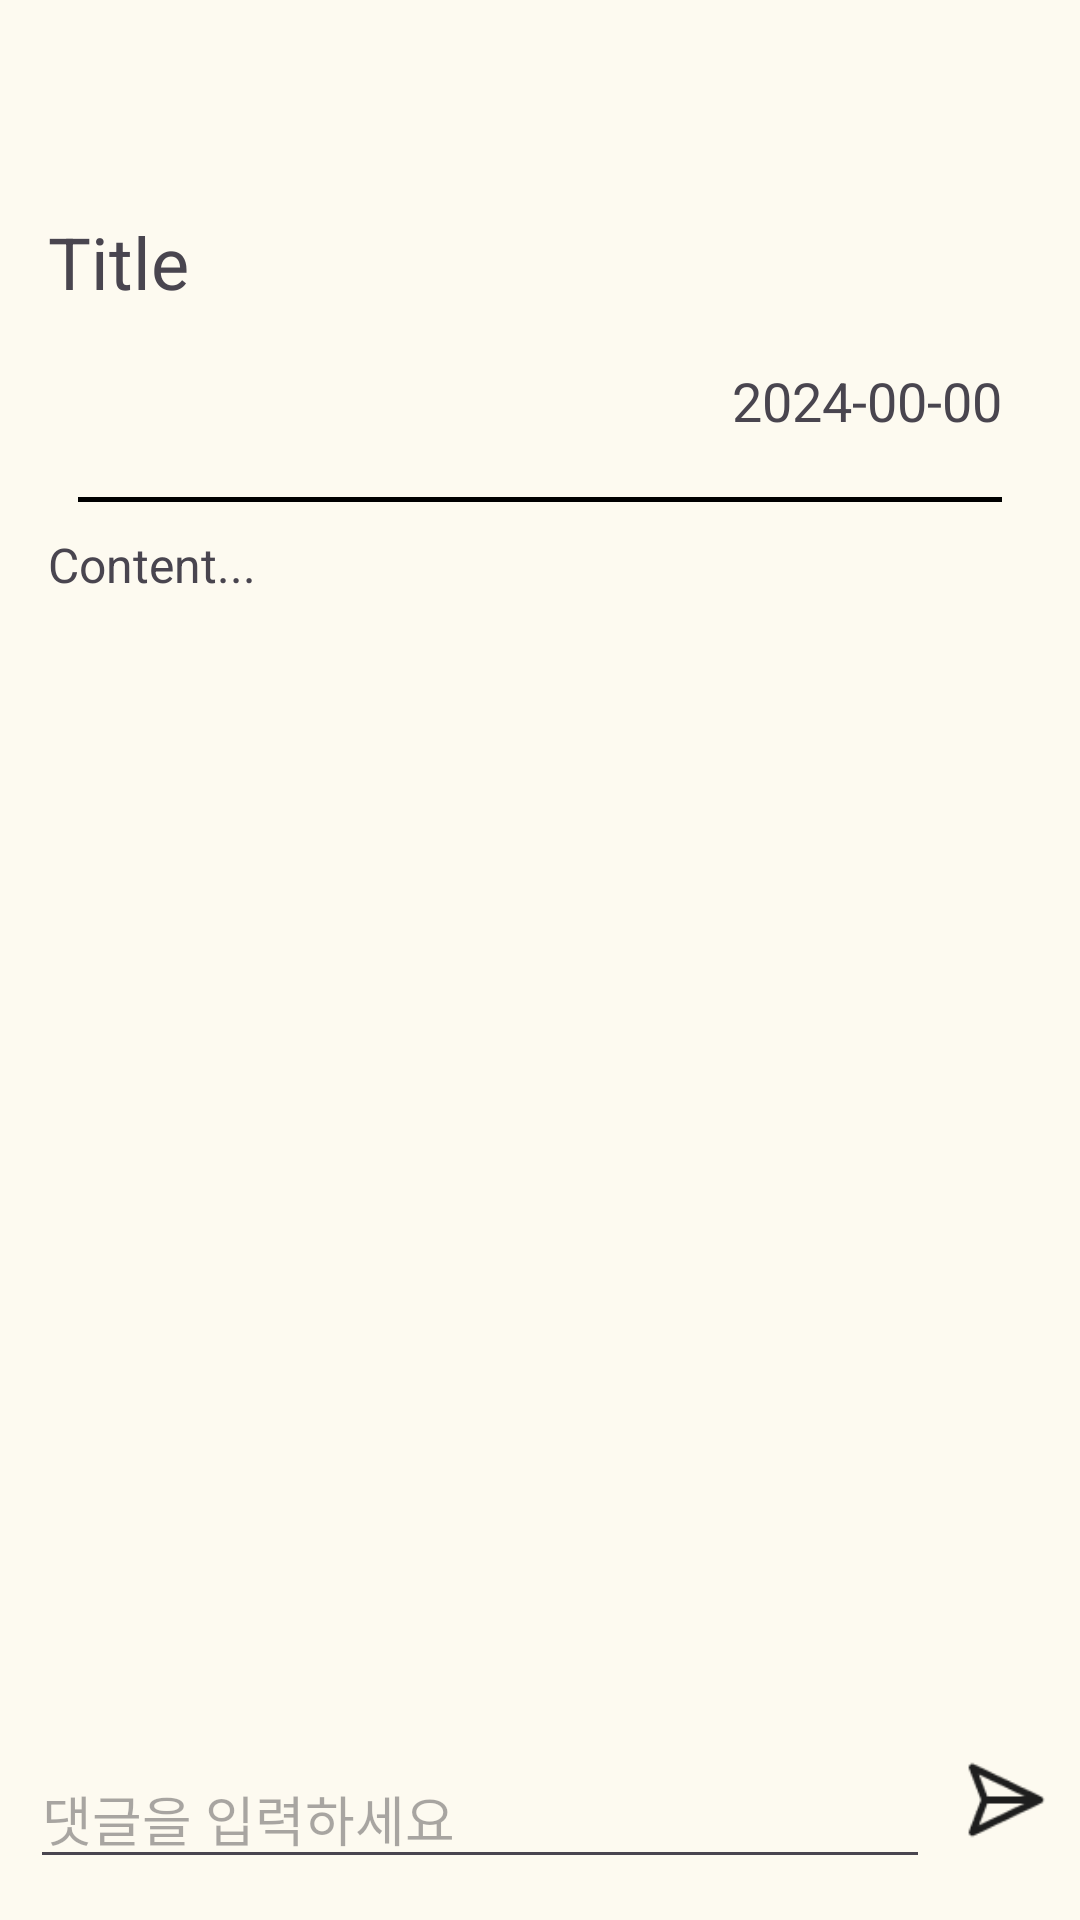

Where icons sit on this 1080x1920 app screen, as region(x1, y1, x2, y2):
댓글 작성 버튼: region(968, 1763, 1044, 1837)
